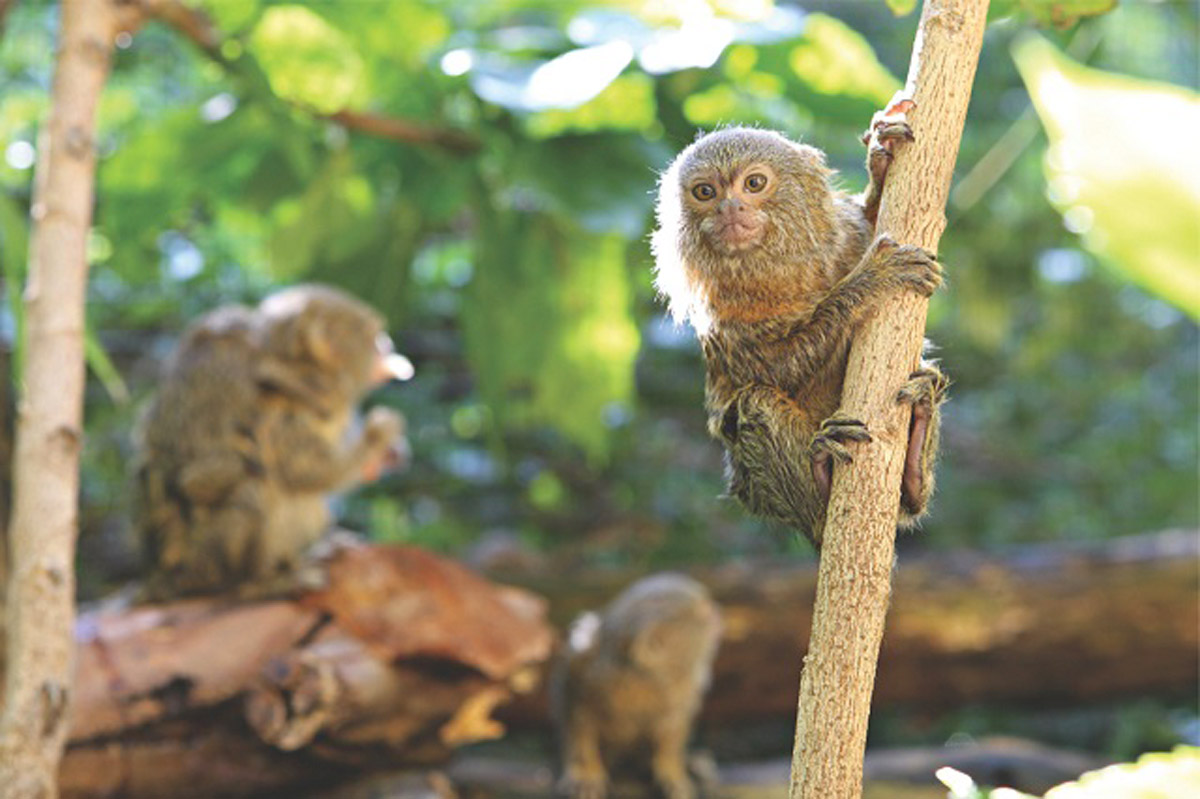PygmyMarmoset: (638, 137, 948, 504), (118, 290, 400, 586), (548, 576, 728, 785), (125, 303, 280, 518)
